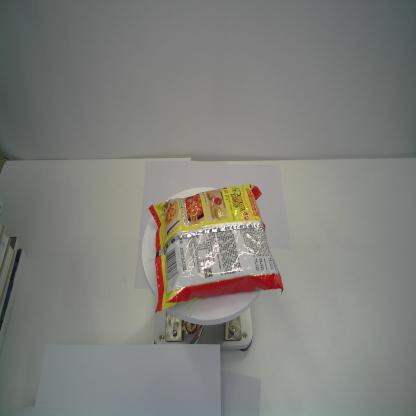Instant Noodles: (147, 182, 285, 315)
